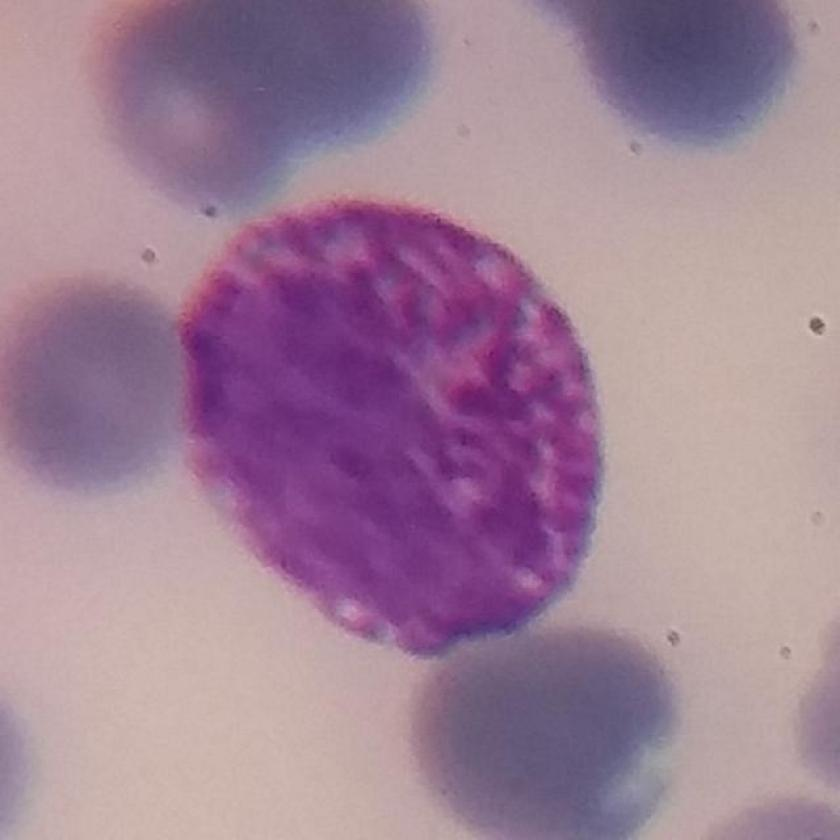basophil: (174, 188, 610, 659)
